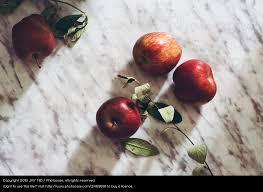apple: (13, 13, 59, 63), (178, 58, 220, 102), (101, 94, 141, 139), (137, 34, 177, 70)
